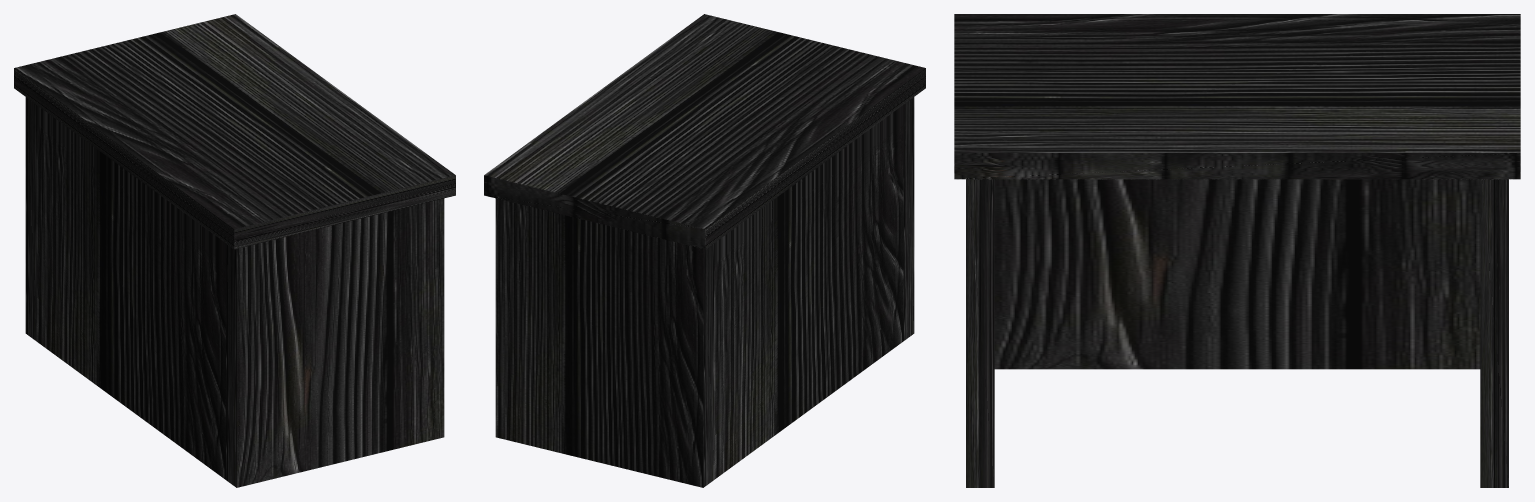
The model's file is Desk2.fbx.
3 renders of one model, left to right at view 1: azimuth 30°, elevation 25°; view 2: azimuth 150°, elevation 25°; view 3: azimuth 270°, elevation 25°, orthographic. The views are drawn at different scales.
Parts seen in each view (by area): view 1: Cube.003, Cube, Cube.002, Cube.001; view 2: Cube.003, Cube.001, Cube.002, Cube; view 3: Cube.003, Cube.002, Cube, Cube.001.
Part boxes in pixels (x1=…): Cube.003: x1=14, y1=14, x2=455, y2=249; Cube: x1=225, y1=198, x2=444, y2=487; Cube.002: x1=36, y1=105, x2=225, y2=479; Cube.001: x1=25, y1=97, x2=36, y2=340; Cube.003: x1=484, y1=14, x2=925, y2=249; Cube.001: x1=495, y1=198, x2=713, y2=487; Cube.002: x1=714, y1=105, x2=903, y2=479; Cube: x1=903, y1=97, x2=914, y2=341; Cube.003: x1=954, y1=14, x2=1520, y2=179; Cube.002: x1=994, y1=179, x2=1480, y2=369; Cube: x1=966, y1=179, x2=994, y2=487; Cube.001: x1=1480, y1=179, x2=1508, y2=487.
Bounding box in the file's own units: 640 × 728 × 1102.
